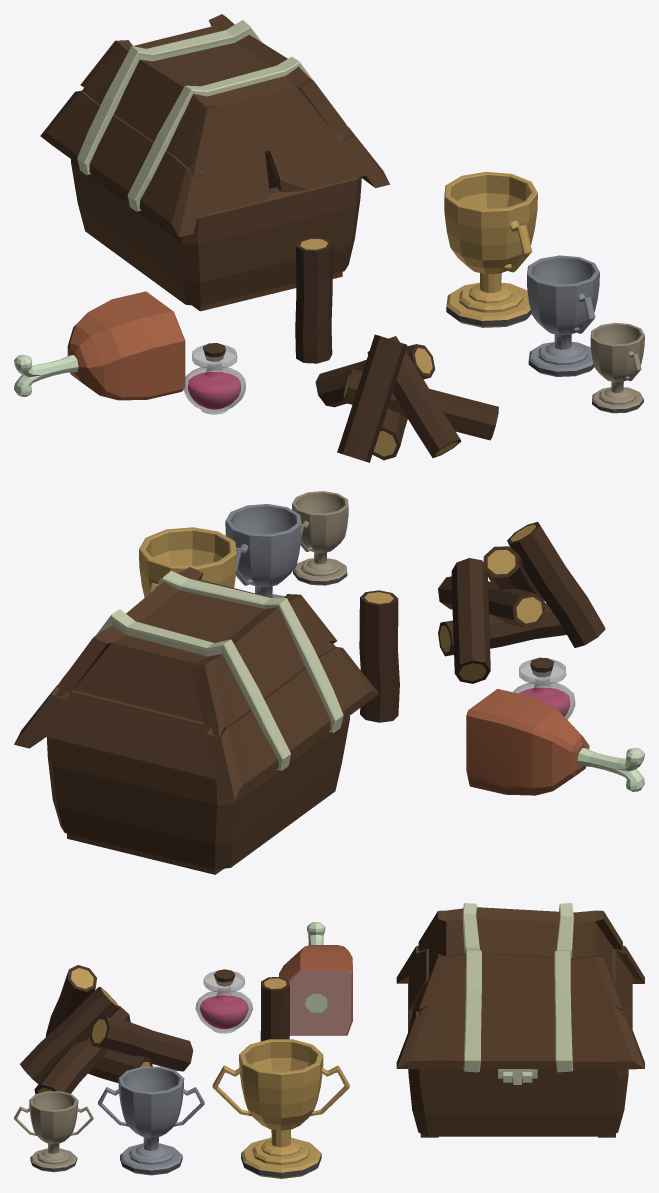
Rendered from Chest_Cups_Potions_Logs_Meat.fbx.
The picture shows the model from 3 angles, top to bottom: view 1: azimuth 30°, elevation 25°; view 2: azimuth 150°, elevation 25°; view 3: azimuth 270°, elevation 25°; orthographic projection. The views are drawn at different scales.
Parts seen in each view (by area): view 1: Chest_Top, Chest_Bottom, Bonfire, Meat, Gold_Cup, Silver_Cup, Wood, Bronze_Cup, Potion; view 2: Chest_Top, Chest_Bottom, Bonfire, Meat, Silver_Cup, Gold_Cup, Wood, Bronze_Cup, Potion; view 3: Chest_Top, Chest_Bottom, Bonfire, Gold_Cup, Silver_Cup, Meat, Bronze_Cup, Potion, Wood.
Part boxes in pixels (x1=…): Chest_Top: x1=40, y1=14, x2=390, y2=237; Chest_Bottom: x1=71, y1=152, x2=361, y2=311; Bonfire: x1=315, y1=334, x2=498, y2=462; Meat: x1=14, y1=291, x2=185, y2=400; Gold_Cup: x1=444, y1=171, x2=537, y2=327; Silver_Cup: x1=527, y1=255, x2=599, y2=376; Wood: x1=295, y1=237, x2=332, y2=363; Bronze_Cup: x1=590, y1=323, x2=644, y2=413; Potion: x1=183, y1=343, x2=245, y2=414; Chest_Top: x1=14, y1=567, x2=378, y2=799; Chest_Bottom: x1=46, y1=716, x2=349, y2=874; Bonfire: x1=438, y1=522, x2=605, y2=683; Meat: x1=466, y1=689, x2=644, y2=795; Silver_Cup: x1=225, y1=504, x2=301, y2=597; Gold_Cup: x1=139, y1=527, x2=236, y2=597; Wood: x1=359, y1=590, x2=399, y2=722; Bronze_Cup: x1=292, y1=491, x2=348, y2=585; Potion: x1=513, y1=657, x2=575, y2=719; Chest_Top: x1=396, y1=903, x2=644, y2=1084; Chest_Bottom: x1=408, y1=982, x2=628, y2=1137; Bonfire: x1=20, y1=965, x2=193, y2=1094; Gold_Cup: x1=212, y1=1039, x2=349, y2=1178; Silver_Cup: x1=98, y1=1066, x2=204, y2=1175; Meat: x1=279, y1=922, x2=352, y2=1035; Bronze_Cup: x1=14, y1=1091, x2=93, y2=1172; Potion: x1=195, y1=969, x2=252, y2=1033; Wood: x1=260, y1=976, x2=289, y2=1041.
Size of the model in its own units: 63.24 by 24.61 by 77.68.
